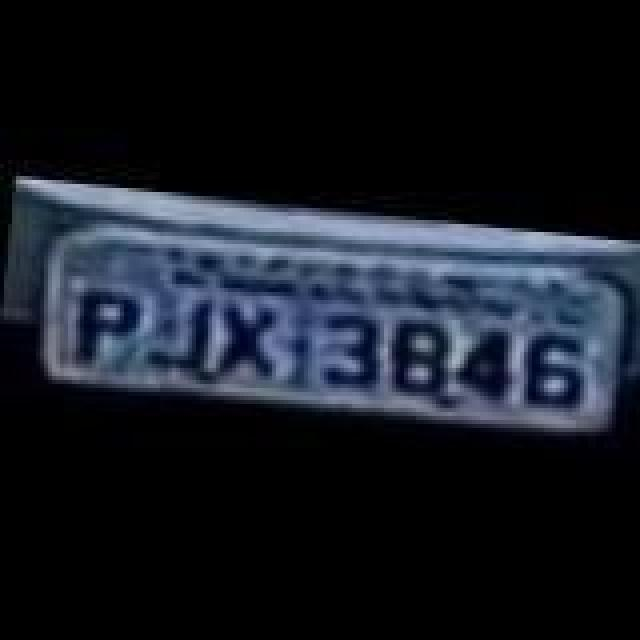3: (312, 304, 384, 400)
4: (454, 324, 522, 404)
6: (512, 320, 592, 416)
8: (380, 310, 460, 402)
J: (140, 290, 212, 382)
P: (68, 278, 140, 378)
X: (208, 292, 288, 388)
